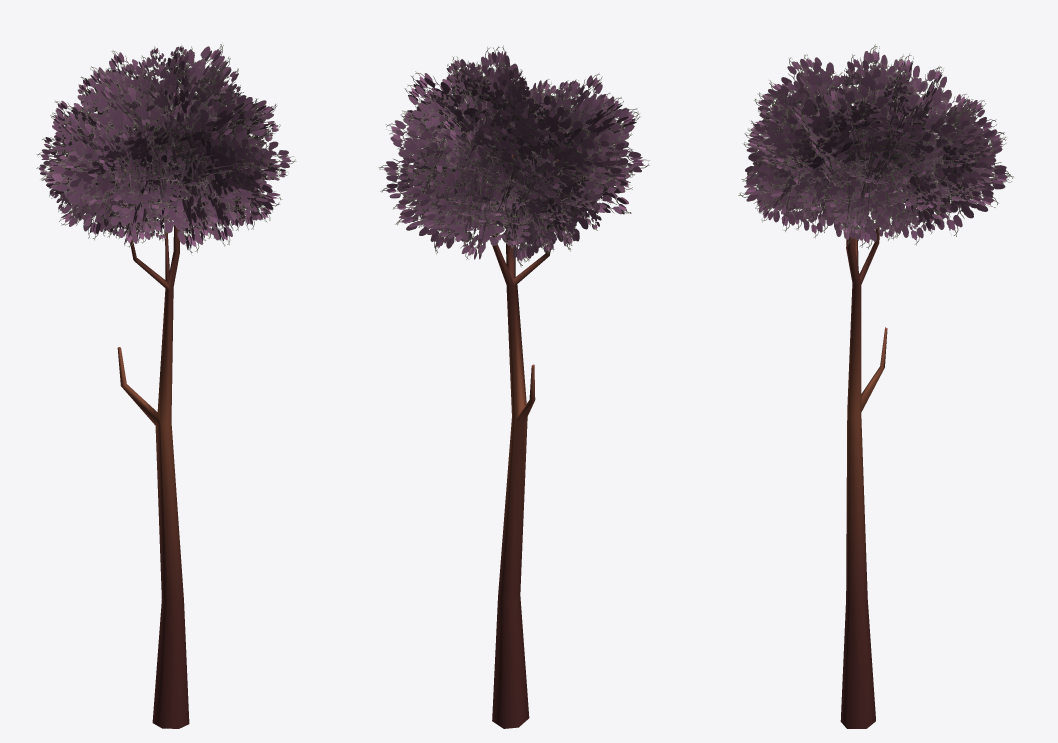
The model's file is Tree_3A.fbx.
3 renders of one model, left to right at view 1: azimuth 30°, elevation 25°; view 2: azimuth 150°, elevation 25°; view 3: azimuth 270°, elevation 25°, orthographic.
Visible parts, largest first — view 1: Tree_3A; view 2: Tree_3A; view 3: Tree_3A.
Part boxes in pixels (bbox=[...]): Tree_3A: bbox=[36, 44, 296, 728]; Tree_3A: bbox=[378, 45, 649, 728]; Tree_3A: bbox=[738, 44, 1013, 728].
Bounding box in the file's own units: 351 × 843 × 367.
